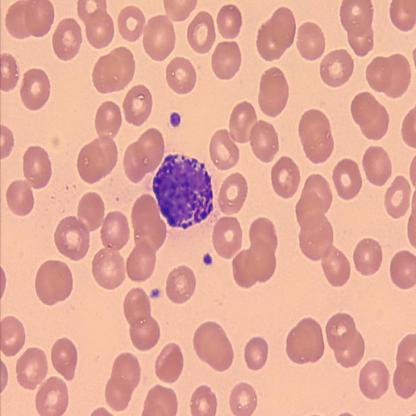Basophil: (152, 148, 215, 232)
